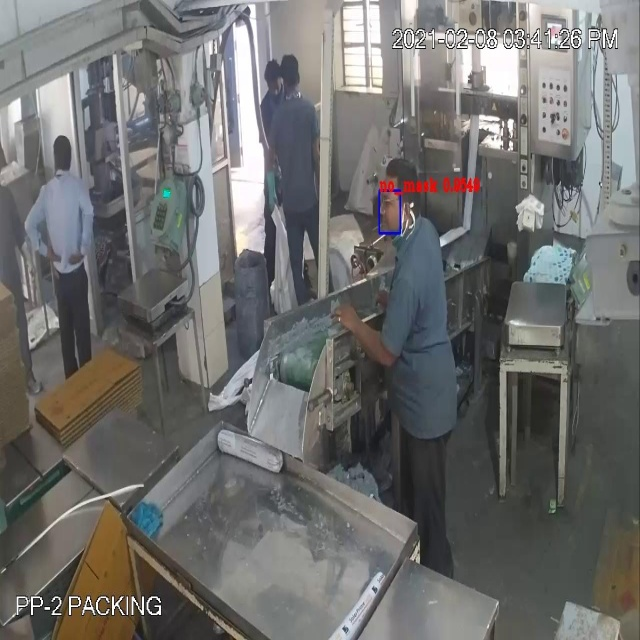Sin_guantes: (330, 292, 405, 384)
